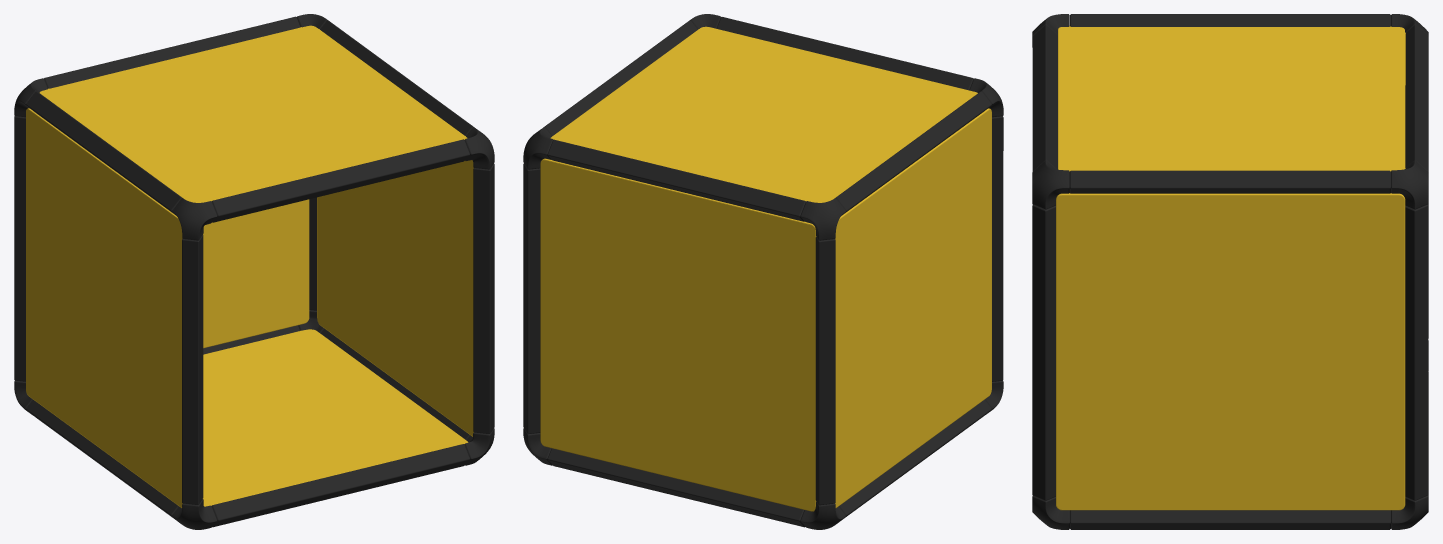
3 renders of one model, left to right at view 1: azimuth 30°, elevation 25°; view 2: azimuth 150°, elevation 25°; view 3: azimuth 270°, elevation 25°, orthographic. The views are drawn at different scales.
Visible parts, largest first — view 1: 329x329x329; view 2: 329x329x329; view 3: 329x329x329.
Part boxes in pixels (<box>): 329x329x329: <box>14,14,494,529</box>; 329x329x329: <box>523,14,1003,529</box>; 329x329x329: <box>1032,14,1428,529</box>.
Bounding box in the file's own units: 0.4067 × 0.4066 × 0.4063.
